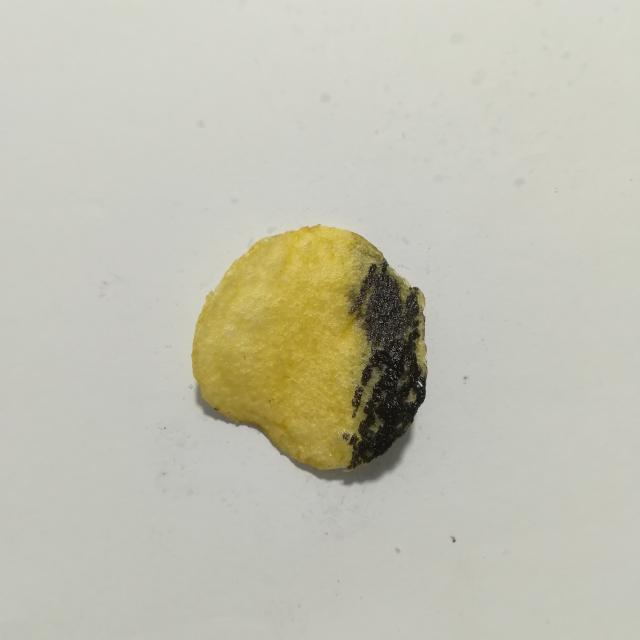chip: (192, 225, 427, 470)
damaged: (342, 261, 426, 469)
semi-damaged: (346, 232, 383, 312)
